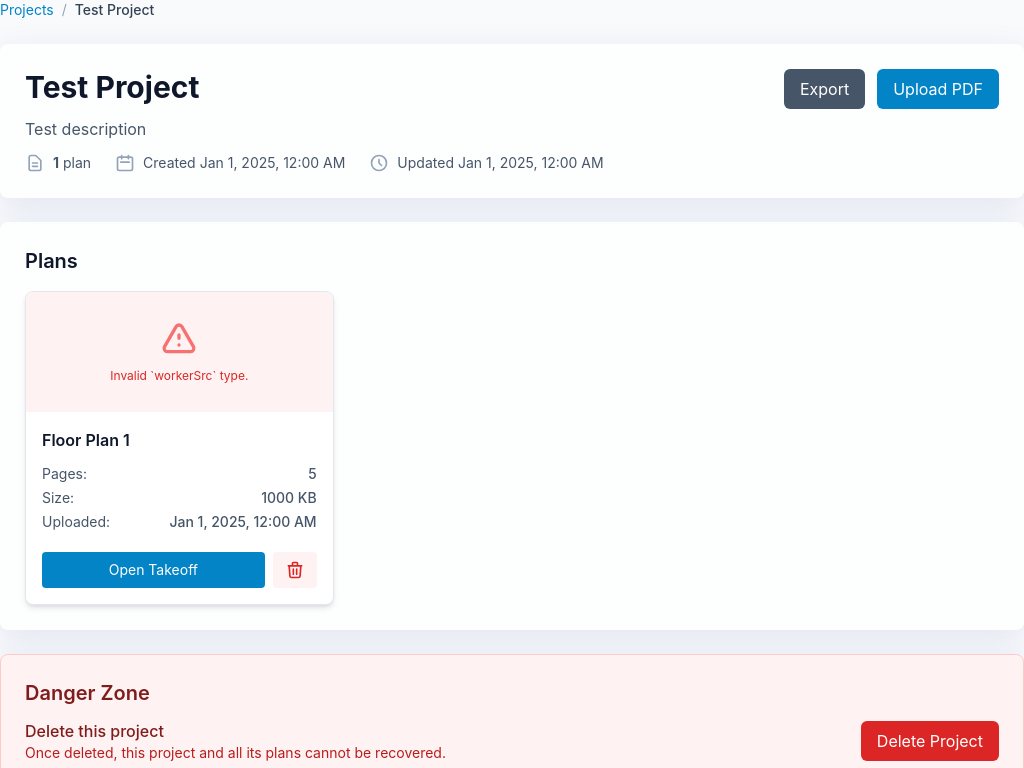
it: ProjectDetailPage - Export Dialog Integration › Export Dialog Workflow › should submit export request and show success message
# Open export dialog
Click the button "Export". click: x=825, y=89
box: [784,69,865,109]
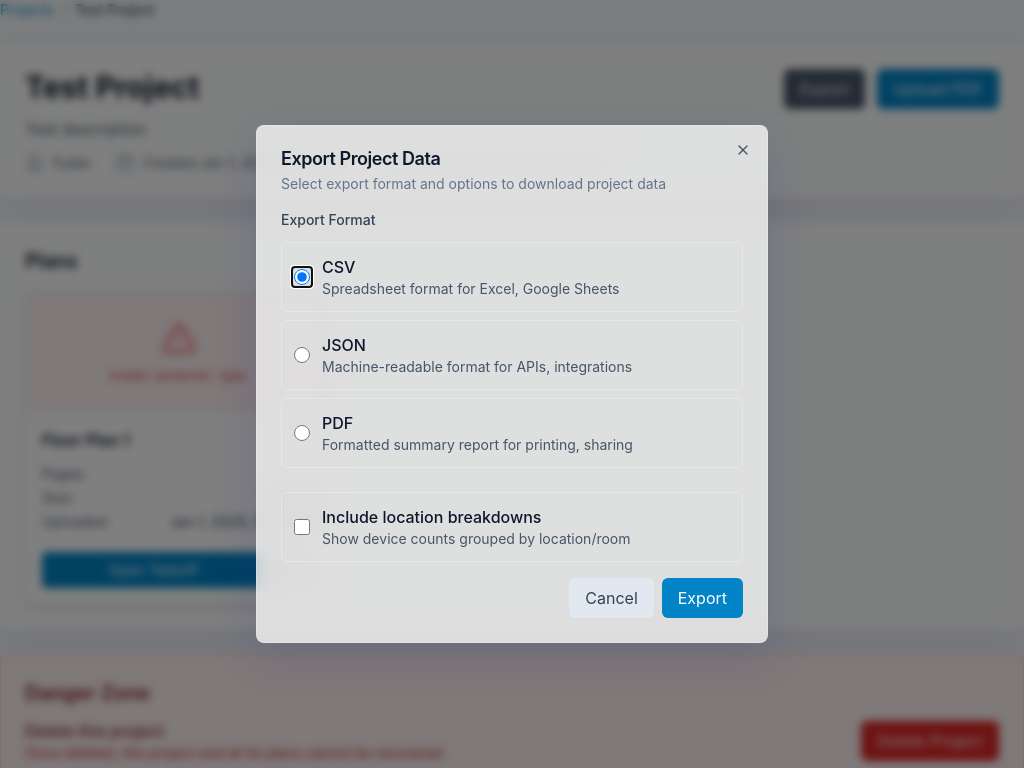
Expected: the heading "Export Project Data" is shown, [281,148,440,169]
# Submit export
Click the button "Export". click: x=702, y=598
box: [662,578,743,618]
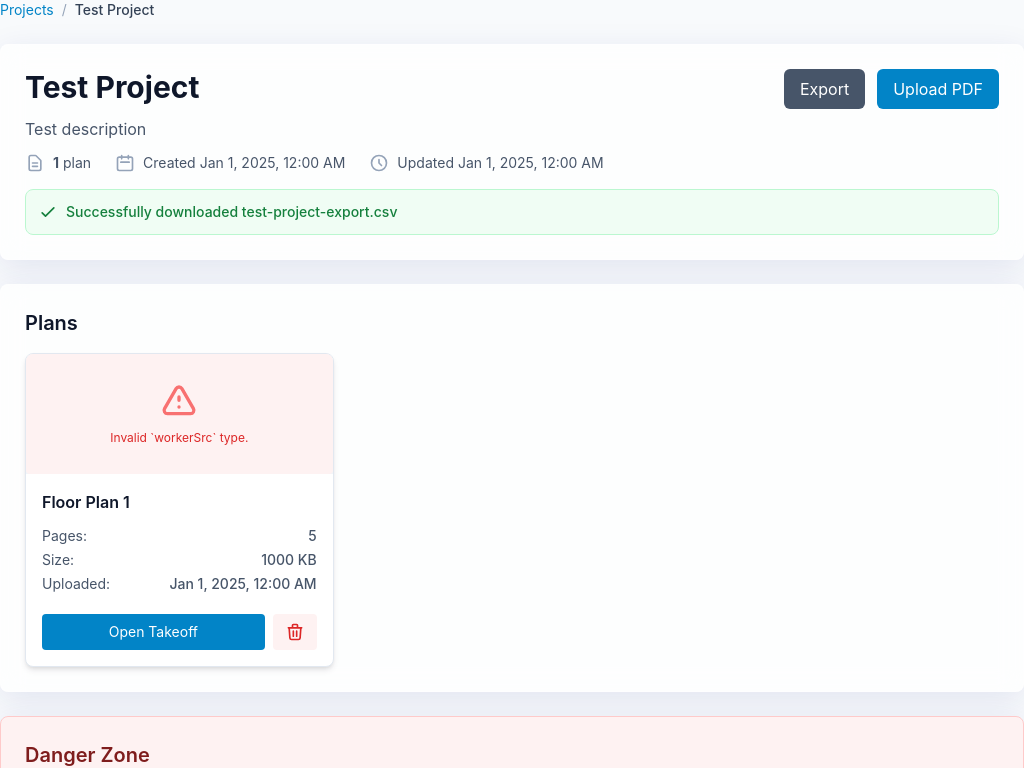
Expected: the text "Successfully downloaded test-project-export.csv" is shown, [66,202,398,222]
Expected: the heading "Export Project Data" is gone
